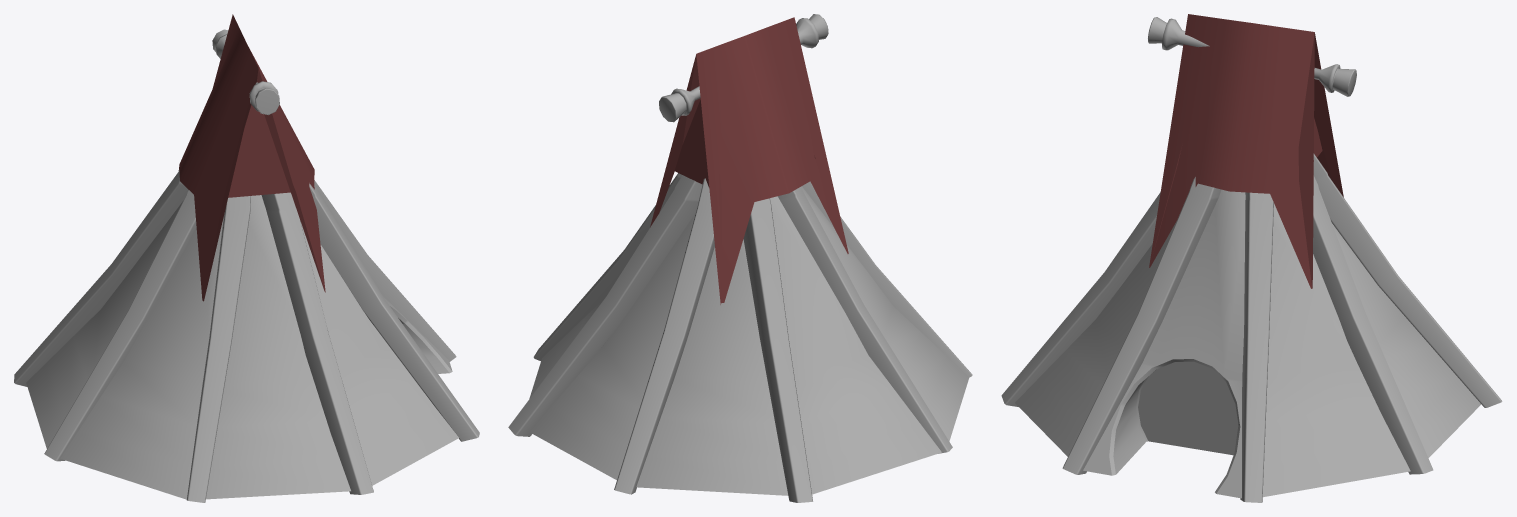
File: Bigtent.fbx
3 renders of one model, left to right at view 1: azimuth 30°, elevation 25°; view 2: azimuth 150°, elevation 25°; view 3: azimuth 270°, elevation 25°, orthographic. The views are drawn at different scales.
Visible parts, largest first — view 1: pasted__pCylinder87, pasted__pCube211, pCube264, pCube263, pCube202, pCube262, pCube261, pCube258, Bowtie; view 2: pasted__pCylinder87, pasted__pCube211, pCube261, pCube259, pCube260, pCube262, pCube258, pCube263, Bowtie; view 3: pasted__pCylinder87, pasted__pCube211, pCube202, pCube258, pCube259, pCube260, pCube264, Bowtie.
Part boxes in pixels (<box>): pasted__pCylinder87: <box>26,195,458,499</box>; pasted__pCube211: <box>178,14,325,301</box>; pCube264: <box>261,192,373,494</box>; pCube263: <box>187,196,250,502</box>; pCube202: <box>309,183,479,441</box>; pCube262: <box>44,190,196,461</box>; pCube261: <box>14,169,188,386</box>; pCube258: <box>314,180,456,361</box>; Bowtie: <box>212,29,279,114</box>; pasted__pCylinder87: <box>529,186,969,495</box>; pasted__pCube211: <box>650,17,848,304</box>; pCube261: <box>743,198,812,502</box>; pCube259: <box>508,175,702,436</box>; pCube260: <box>614,178,714,494</box>; pCube262: <box>778,187,952,453</box>; pCube258: <box>533,173,682,360</box>; pCube263: <box>802,181,972,377</box>; Bowtie: <box>659,14,828,122</box>; pasted__pCylinder87: <box>1015,189,1481,498</box>; pasted__pCube211: <box>1149,14,1343,288</box>; pCube202: <box>1062,177,1221,474</box>; pCube258: <box>1240,192,1273,502</box>; pCube259: <box>1313,175,1433,474</box>; pCube260: <box>1313,153,1502,407</box>; pCube264: <box>1001,192,1160,406</box>; Bowtie: <box>1148,17,1356,96</box>.
Bounding box in the file's own units: 791 × 684 × 814.
